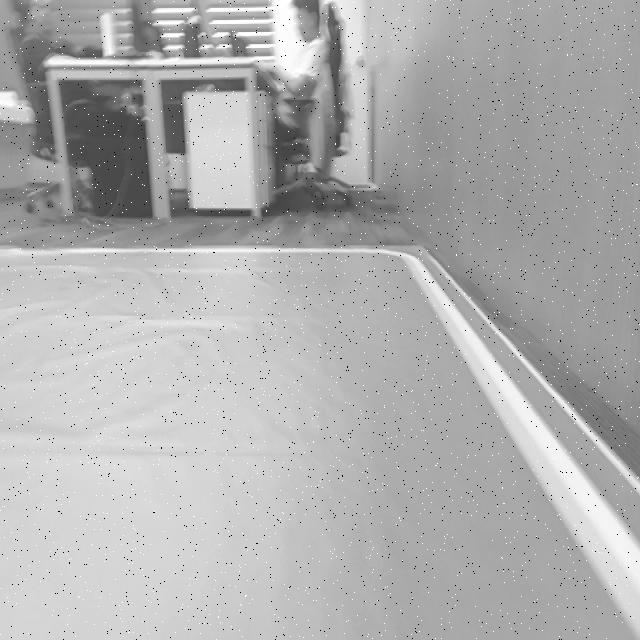right_lane: (407, 263, 640, 635)
